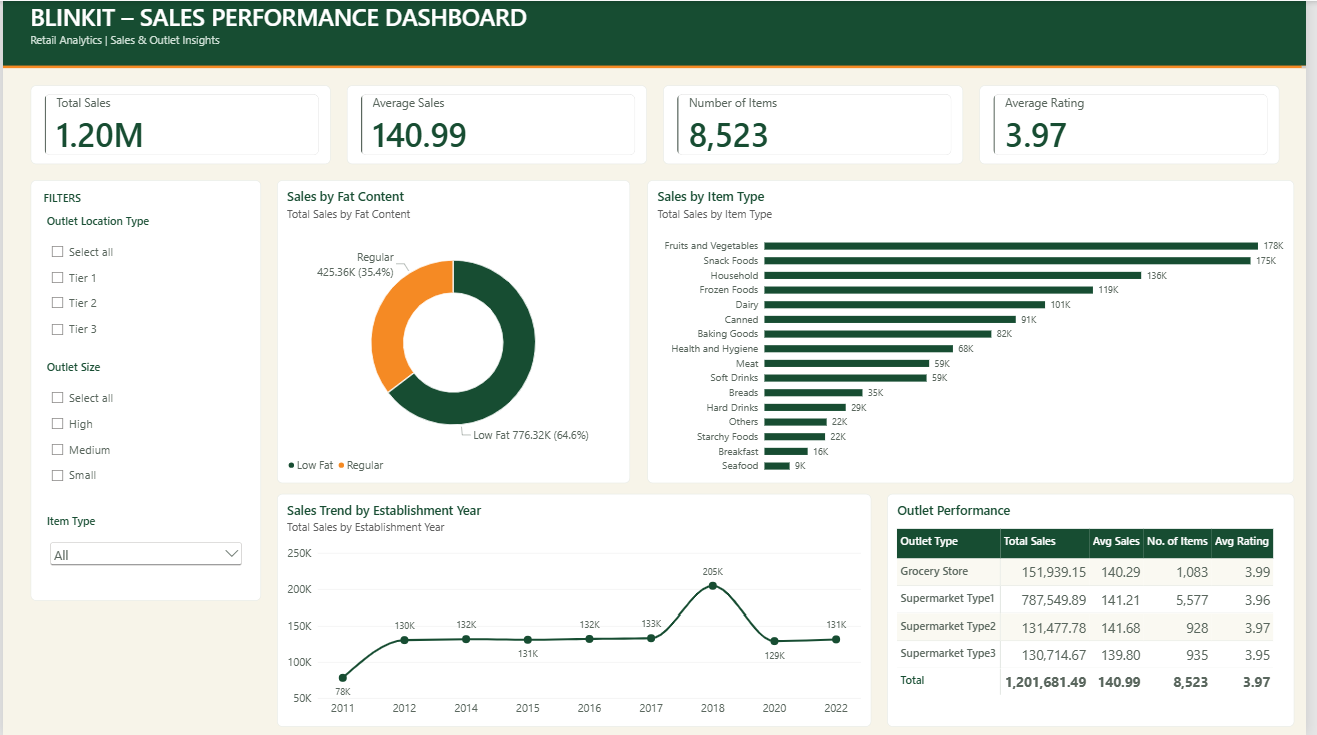

The dashboard page shown, as its layout file describes it:
{"tool":"powerbi","page":{"name":"Sales Performance","canvas":[1920,1080],"ordinal":0},"visuals":[{"type":"textbox","box":[0,0,1920,96],"z":0},{"type":"textbox","box":[0,96,1920,4],"z":1000},{"type":"cardVisual","fields":{"Data":["blinkit_sales.Total_Sales"]},"box":[40,124,442,116],"z":2000},{"type":"cardVisual","fields":{"Data":["blinkit_sales.Avg_Sales"]},"box":[506,124,442,116],"z":3000},{"type":"cardVisual","fields":{"Data":["blinkit_sales.No_of_Items"]},"box":[972,124,442,116],"z":4000},{"type":"cardVisual","fields":{"Data":["blinkit_sales.Avg_Rating"]},"box":[1438,124,442,116],"z":5000},{"type":"textbox","box":[40.8,263.9,339.6,619],"z":6000},{"type":"slicer","title":"Outlet Location Type","fields":{"Values":["blinkit_sales.Outlet_Location_Type"]},"box":[54.3,308.5,312.4,199.9],"z":7000},{"type":"slicer","title":"Outlet Size","fields":{"Values":["blinkit_sales.Outlet_Size"]},"box":[54.3,523.9,312.4,201.8],"z":8000},{"type":"slicer","title":"Item Type","fields":{"Values":["blinkit_sales.Item_Type"]},"box":[54.3,751,312.4,99],"z":9000},{"type":"donutChart","title":"Sales by Fat Content","fields":{"Category":["blinkit_sales.Item_Fat_Content"],"Y":["blinkit_sales.Total_Sales"]},"box":[403.6,263.9,520,446.3],"z":10000},{"type":"clusteredBarChart","title":"Sales by Item Type","fields":{"Category":["blinkit_sales.Item_Type"],"Y":["blinkit_sales.Total_Sales"]},"box":[948.9,263.9,952.8,446.3],"z":11000},{"type":"lineChart","title":"Sales Trend by Establishment Year","fields":{"Category":["blinkit_sales.Outlet_Establishment_Year"],"Y":["blinkit_sales.Total_Sales"]},"box":[403.6,725.7,875.2,341.5],"z":12000},{"type":"pivotTable","title":"Outlet Performance","fields":{"Rows":["blinkit_sales.Outlet_Type"],"Values":["blinkit_sales.Total_Sales","blinkit_sales.Avg_Sales","blinkit_sales.No_of_Items","blinkit_sales.Avg_Rating"]},"box":[1302.1,725.7,599.6,341.5],"z":13000}]}

Visuals, with their boxes in screenshot pixels (x1, y1, x2, y2), scaled from the page's 1920x1080 canvas onto the 1317x735 screenshot:
textbox: <bbox>0, 0, 1316, 65</bbox>
textbox: <bbox>0, 65, 1316, 68</bbox>
cardVisual - blinkit_sales.Total_Sales: <bbox>27, 84, 331, 163</bbox>
cardVisual - blinkit_sales.Avg_Sales: <bbox>347, 84, 650, 163</bbox>
cardVisual - blinkit_sales.No_of_Items: <bbox>667, 84, 970, 163</bbox>
cardVisual - blinkit_sales.Avg_Rating: <bbox>986, 84, 1290, 163</bbox>
textbox: <bbox>28, 180, 261, 601</bbox>
"Outlet Location Type" slicer: <bbox>37, 210, 252, 346</bbox>
"Outlet Size" slicer: <bbox>37, 357, 252, 494</bbox>
"Item Type" slicer: <bbox>37, 511, 252, 578</bbox>
"Sales by Fat Content" donutChart: <bbox>277, 180, 634, 483</bbox>
"Sales by Item Type" clusteredBarChart: <bbox>651, 180, 1304, 483</bbox>
"Sales Trend by Establishment Year" lineChart: <bbox>277, 494, 877, 726</bbox>
"Outlet Performance" pivotTable: <bbox>893, 494, 1304, 726</bbox>
